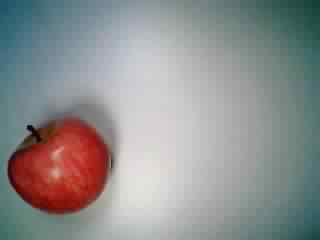apple: (7, 113, 110, 217)
